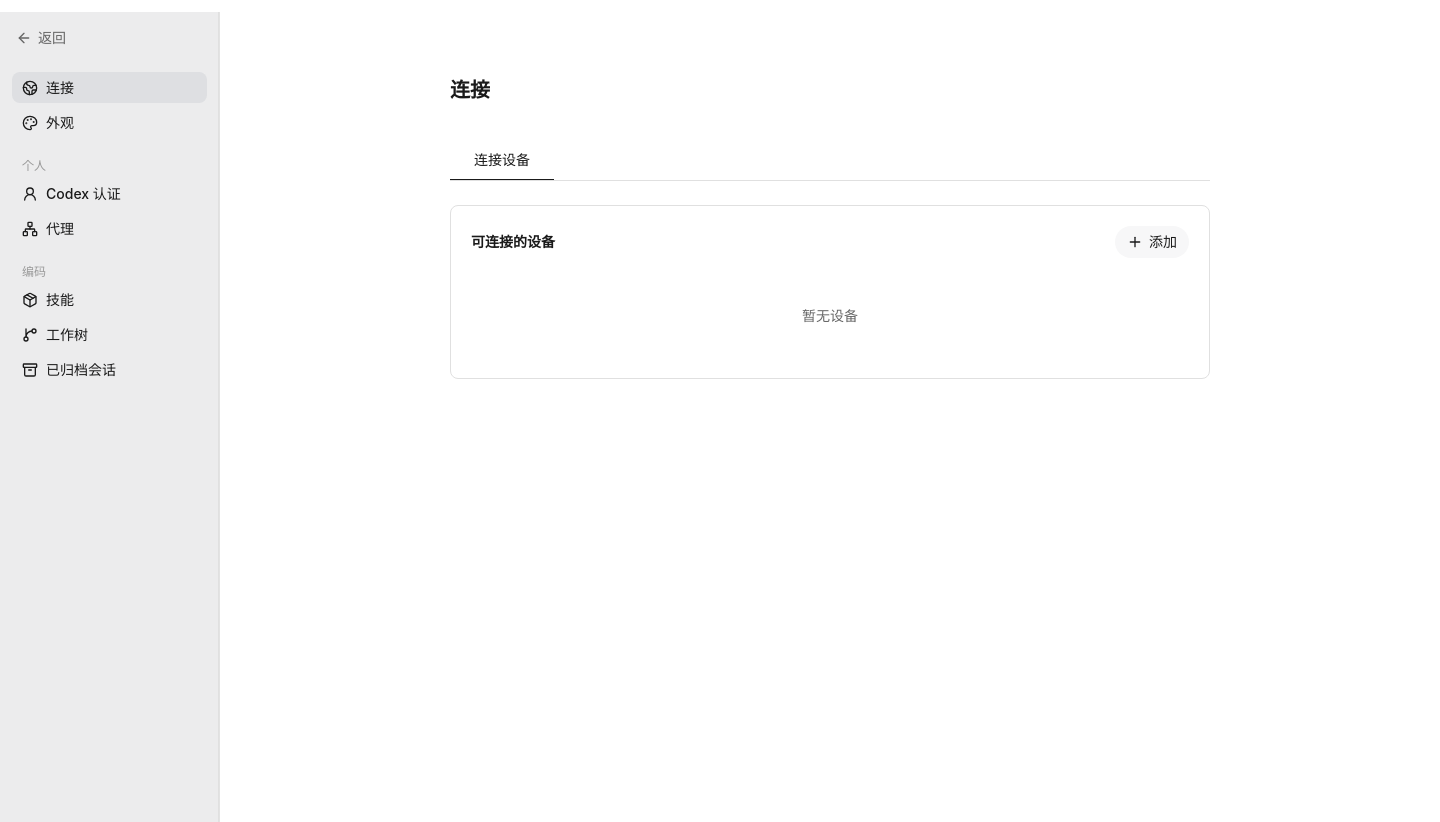
Scenario: ConnectionsSettingsPage › shows a single empty worktree state without device groups
Step 1. Click the button with test id "settings-nav-worktrees" → (110, 334), box top-left (12, 319), bottom-right (207, 350)
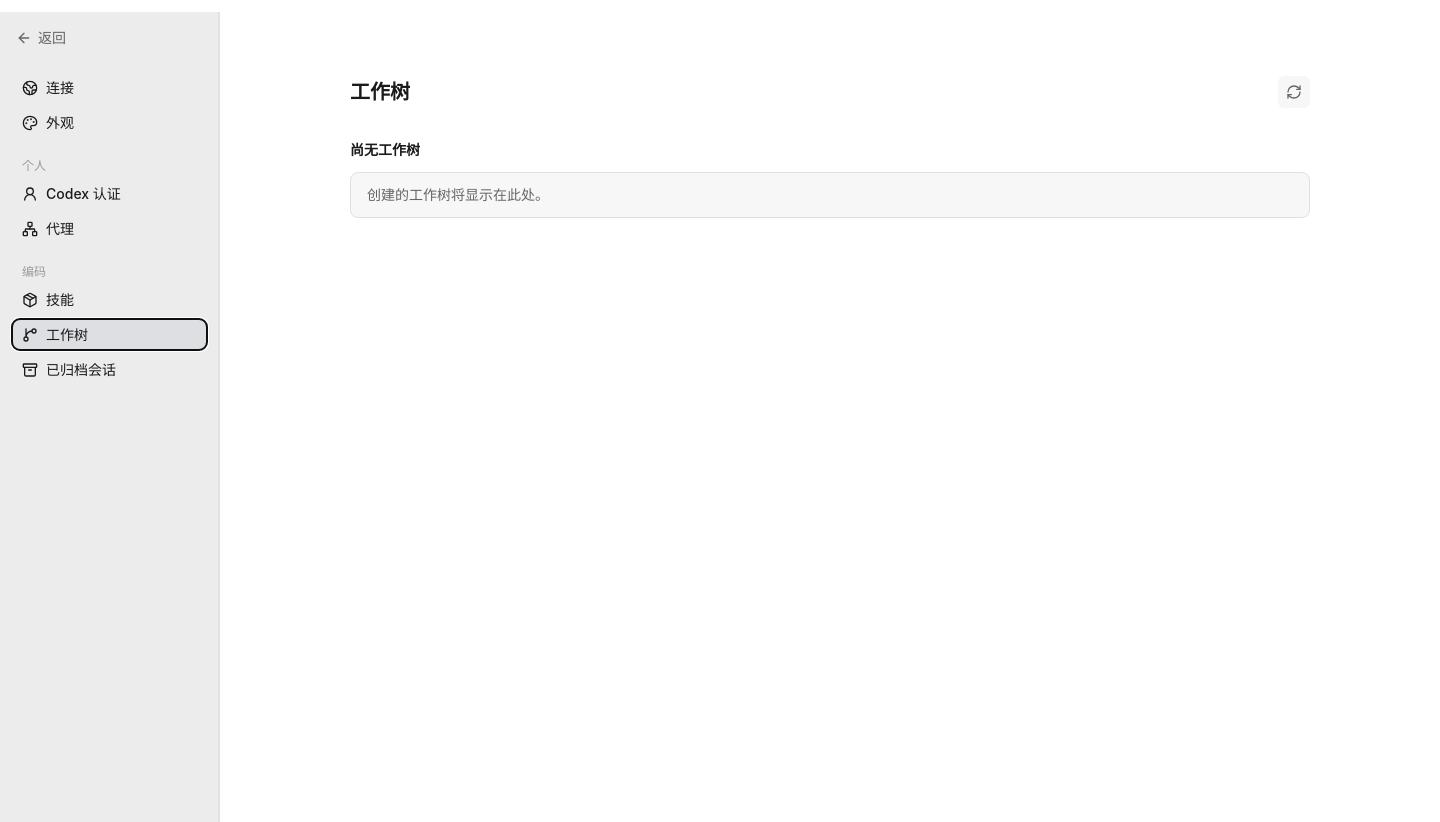
Check: the heading "尚无工作树" is shown, box top-left (350, 141), bottom-right (420, 158)
